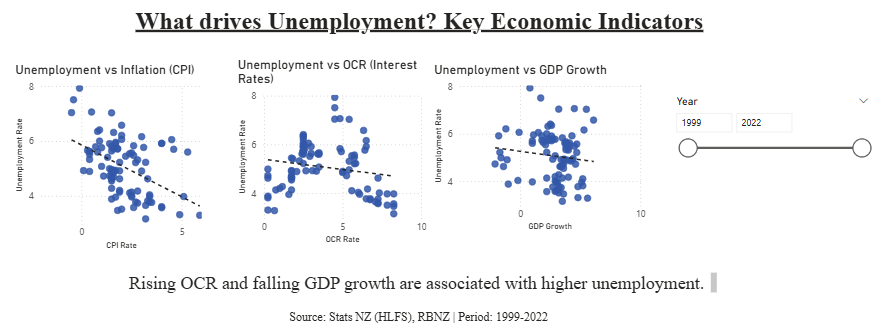

The page's visual inventory and layout, read from the dashboard file:
{"tool":"powerbi","page":{"name":"Economic Drivers","canvas":[1280,720],"ordinal":1},"visuals":[{"type":"scatterChart","title":"Unemployment vs Inflation (CPI)","fields":{"X":["cleaned_unemployed_data.CPI Rate"],"Y":["cleaned_unemployed_data.Unemployment Rate"],"Category":["cleaned_unemployed_data.Quarter_Date"]},"box":[64.6,176.2,262.2,255.5],"z":0},{"type":"scatterChart","title":"Unemployment vs OCR (Interest Rates)","fields":{"X":["cleaned_unemployed_data.OCR Rate"],"Y":["cleaned_unemployed_data.Unemployment Rate"],"Category":["cleaned_unemployed_data.Quarter_Date"]},"box":[360.9,169.8,261.3,254.8],"z":1},{"type":"scatterChart","title":"Unemployment vs GDP Growth","fields":{"X":["cleaned_unemployed_data.GDP Growth"],"Y":["cleaned_unemployed_data.Unemployment Rate"],"Category":["cleaned_unemployed_data.Quarter_Date"]},"box":[622.7,176.2,291.8,231.3],"z":2},{"type":"textbox","box":[194.3,98,826.3,55.5],"z":3},{"type":"textbox","box":[346.3,502.8,521.1,40],"z":4},{"type":"slicer","fields":{"Values":["DateTable.Year"]},"box":[937.3,216.5,281.1,150.6],"z":5},{"type":"textbox","box":[206.5,452.9,802.5,36.6],"z":6}]}

Visuals, with their boxes on the page's 1280x720 design canvas (x1, y1, x2, y2). These are canvas units, not pixel positions in the 882x332 screenshot, which may show the page scaled, cropped or inside an application window:
"Unemployment vs Inflation (CPI)" scatterChart: box(65, 176, 327, 432)
"Unemployment vs OCR (Interest Rates)" scatterChart: box(361, 170, 622, 425)
"Unemployment vs GDP Growth" scatterChart: box(623, 176, 914, 408)
textbox: box(194, 98, 1021, 154)
textbox: box(346, 503, 867, 543)
slicer - DateTable.Year: box(937, 216, 1218, 367)
textbox: box(206, 453, 1009, 490)
